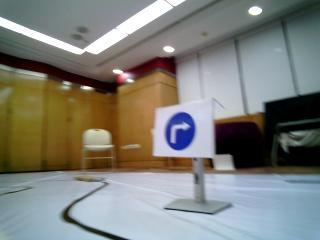right: (151, 100, 215, 156)
